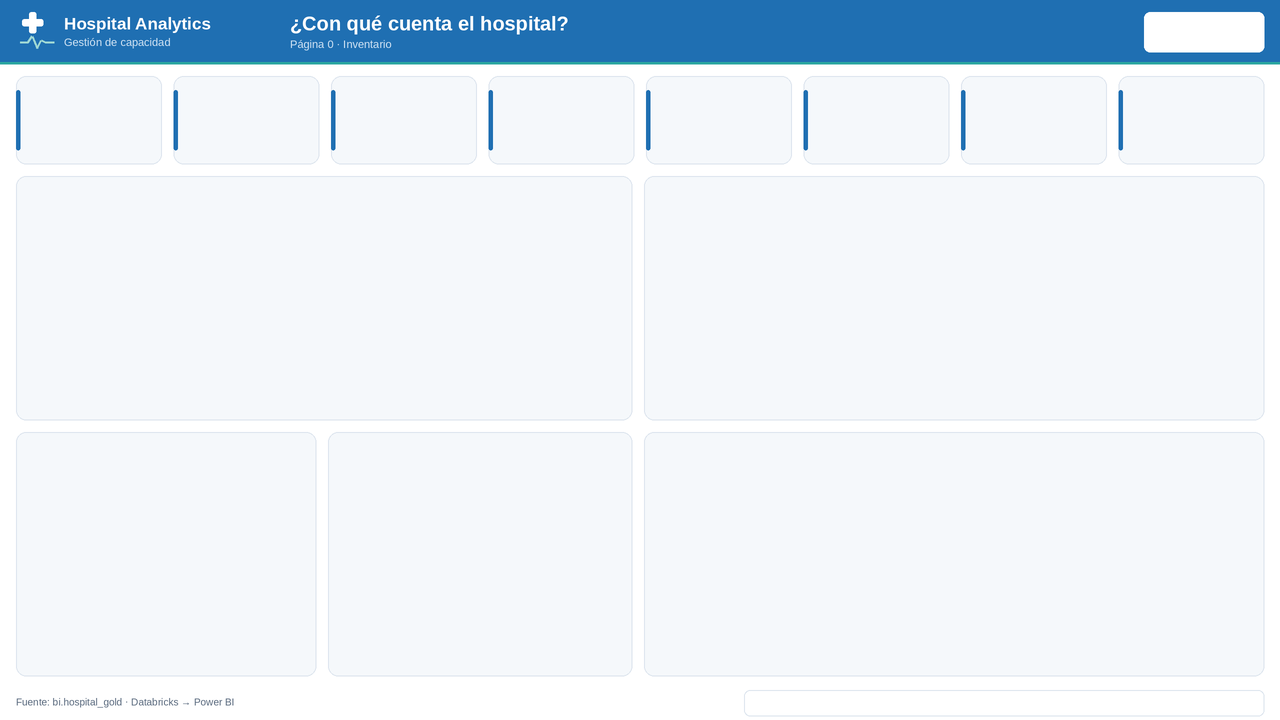

The dashboard page shown, as its layout file describes it:
{"tool":"powerbi","page":{"name":"0 Inventario","canvas":[1920,1080],"ordinal":0},"visuals":[{"type":"card","fields":{"Values":["_Medidas.Departamentos Seleccionados"]},"box":[39,120,197.2,120],"z":1000},{"type":"card","fields":{"Values":["_Medidas.Médicos por Depto"]},"box":[275.2,120,197.2,120],"z":2000},{"type":"card","fields":{"Values":["_Medidas.Enfermería por Depto"]},"box":[511.5,120,197.2,120],"z":3000},{"type":"card","fields":{"Values":["_Medidas.Auxiliares por Depto"]},"box":[747.8,120,197.2,120],"z":4000},{"type":"card","fields":{"Values":["_Medidas.Camas por Depto"]},"box":[984,120,197.2,120],"z":5000},{"type":"card","fields":{"Values":["_Medidas.Habitaciones por Depto"]},"box":[1220.2,120,197.2,120],"z":6000},{"type":"card","fields":{"Values":["_Medidas.Pabellones por Depto"]},"box":[1456.5,120,197.2,120],"z":7000},{"type":"card","fields":{"Values":["_Medidas.Total Pacientes"]},"box":[1692.8,120,197.2,120],"z":8000},{"type":"barChart","title":"Personal asistencial y médico por departamento","fields":{"Category":["dim_departments.department_name"],"Y":["_Medidas.Médicos por Depto","_Medidas.Personal por Depto"]},"box":[24,264,924,366],"z":9000},{"type":"clusteredBarChart","title":"Medicina General y UCI concentran la mayor cantidad de camas","fields":{"Category":["dim_beds.ward_name"],"Y":["_Medidas.Camas por Depto"]},"box":[966,264,930,366],"z":10000},{"type":"donutChart","title":"Menos de 1 de cada 10 médicos es cirujano","fields":{"Category":["dim_doctors.Tipo de médico"],"Y":["_Medidas.Médicos por Depto"]},"box":[24,648,450,366],"z":11000},{"type":"clusteredColumnChart","title":"Tipos de habitación disponibles","fields":{"Category":["dim_rooms.room_type"],"Y":["_Medidas.Habitaciones por Depto"]},"box":[492,648,456,366],"z":12000},{"type":"tableEx","title":"Ficha de capacidad por departamento","fields":{"Values":["dim_departments.department_name","_Medidas.Médicos por Depto","_Medidas.Personal por Depto","_Medidas.Camas por Depto","_Medidas.Habitaciones por Depto"]},"box":[966,648,930,366],"z":13000},{"type":"slicer","fields":{"Values":["dim_departments.department_name"]},"box":[1716,18,180,60],"z":20000},{"type":"pageNavigator","box":[1116,1035,780,39],"z":21000}]}

Visuals, with their boxes on the page's 1920x1080 design canvas (x1, y1, x2, y2). These are canvas units, not pixel positions in the 1280x720 screenshot, which may show the page scaled, cropped or inside an application window:
card - _Medidas.Departamentos Seleccionados: [left=39, top=120, right=236, bottom=240]
card - _Medidas.Médicos por Depto: [left=275, top=120, right=472, bottom=240]
card - _Medidas.Enfermería por Depto: [left=512, top=120, right=709, bottom=240]
card - _Medidas.Auxiliares por Depto: [left=748, top=120, right=945, bottom=240]
card - _Medidas.Camas por Depto: [left=984, top=120, right=1181, bottom=240]
card - _Medidas.Habitaciones por Depto: [left=1220, top=120, right=1417, bottom=240]
card - _Medidas.Pabellones por Depto: [left=1456, top=120, right=1654, bottom=240]
card - _Medidas.Total Pacientes: [left=1693, top=120, right=1890, bottom=240]
"Personal asistencial y médico por departamento" barChart: [left=24, top=264, right=948, bottom=630]
"Medicina General y UCI concentran la mayor cantidad de camas" clusteredBarChart: [left=966, top=264, right=1896, bottom=630]
"Menos de 1 de cada 10 médicos es cirujano" donutChart: [left=24, top=648, right=474, bottom=1014]
"Tipos de habitación disponibles" clusteredColumnChart: [left=492, top=648, right=948, bottom=1014]
"Ficha de capacidad por departamento" tableEx: [left=966, top=648, right=1896, bottom=1014]
slicer - dim_departments.department_name: [left=1716, top=18, right=1896, bottom=78]
pageNavigator: [left=1116, top=1035, right=1896, bottom=1074]
